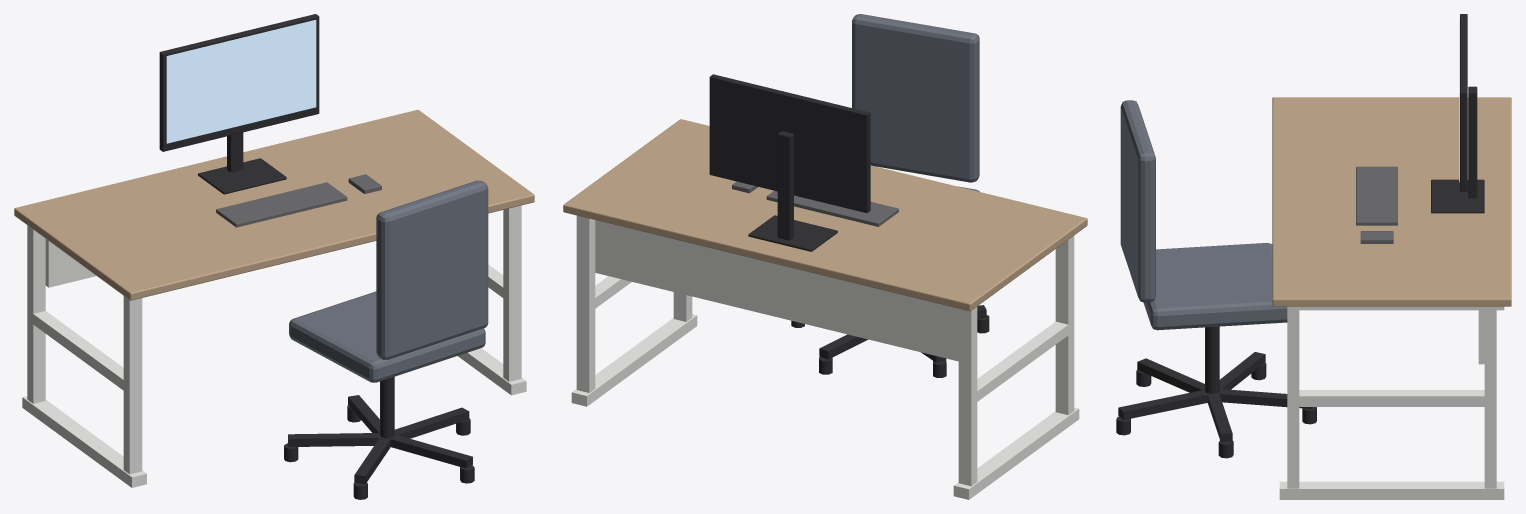
Rendered from desk_set.glb.
The picture shows the model from 3 angles, left to right: view 1: azimuth 30°, elevation 25°; view 2: azimuth 150°, elevation 25°; view 3: azimuth 270°, elevation 25°; orthographic projection. The views are drawn at different scales.
Parts seen in each view (by area): view 1: Top, Seat, Frame, Screen, Base, Monitor, Keyboard; view 2: Top, Frame, Monitor, Seat, Keyboard, Base; view 3: Top, Seat, Frame, Base, Monitor, Keyboard.
Part boxes in pixels (bbox=[...]): Top: bbox=[14, 109, 534, 300]; Seat: bbox=[289, 180, 488, 382]; Frame: bbox=[22, 205, 526, 487]; Screen: bbox=[166, 20, 316, 143]; Base: bbox=[284, 377, 474, 499]; Monitor: bbox=[159, 14, 319, 194]; Keyboard: bbox=[216, 174, 381, 227]; Top: bbox=[563, 119, 1087, 311]; Frame: bbox=[571, 215, 1079, 499]; Monitor: bbox=[709, 74, 870, 251]; Seat: bbox=[852, 14, 979, 191]; Keyboard: bbox=[732, 181, 898, 226]; Base: bbox=[791, 305, 989, 377]; Top: bbox=[1272, 97, 1511, 306]; Seat: bbox=[1120, 100, 1287, 330]; Frame: bbox=[1279, 306, 1504, 499]; Base: bbox=[1116, 326, 1316, 458]; Monitor: bbox=[1431, 14, 1484, 213]; Keyboard: bbox=[1356, 166, 1397, 243].
Bounding box in the file's own units: 1.6 × 1.28 × 1.32.
